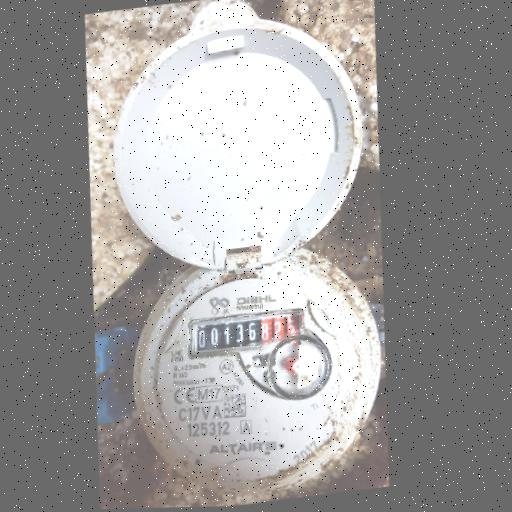0: (194, 324, 211, 351), (206, 323, 223, 350)
1: (219, 322, 235, 349)
2: (271, 316, 285, 342)
3: (233, 320, 247, 347), (286, 314, 300, 336)
6: (245, 320, 259, 347)
8: (258, 316, 273, 345)
border_water_meter_number: (188, 310, 306, 358)
